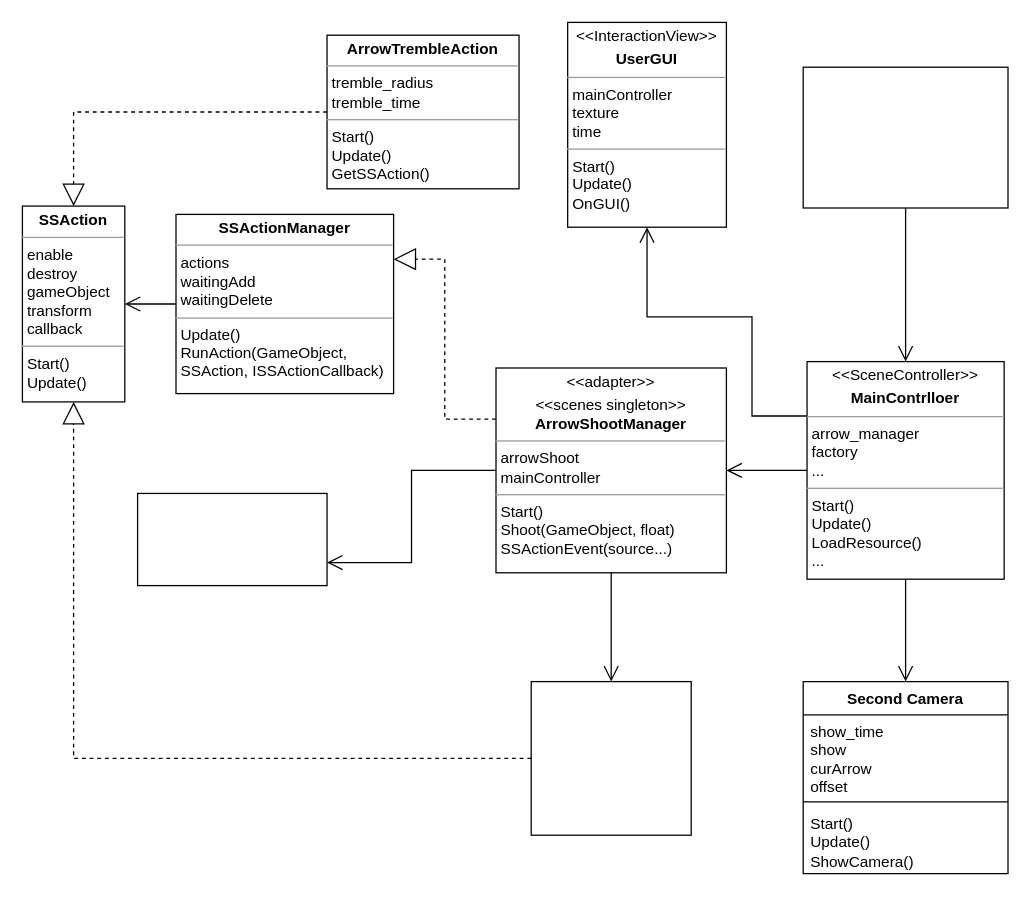
Some shapes in this 1030 by 900 pixel diagram are drawn without their labels. The box of each missing label's shape, as (x1, y1, x2, y2) in pixels:
<<interface>> ISSActionCallback SSActionEvent(source...): (136, 492, 327, 586)
<<Singleton>> SSDirector instance mainController GetInstance(): (802, 66, 1008, 208)
ArrowShootAction arrowSpeed arrowForce Start() Update() GetSSAction(): (530, 680, 691, 835)
